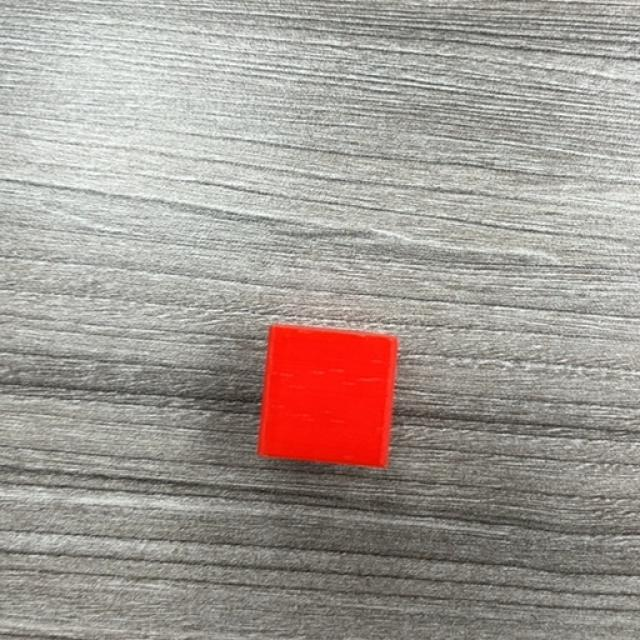Rojo: (258, 325, 399, 470)
